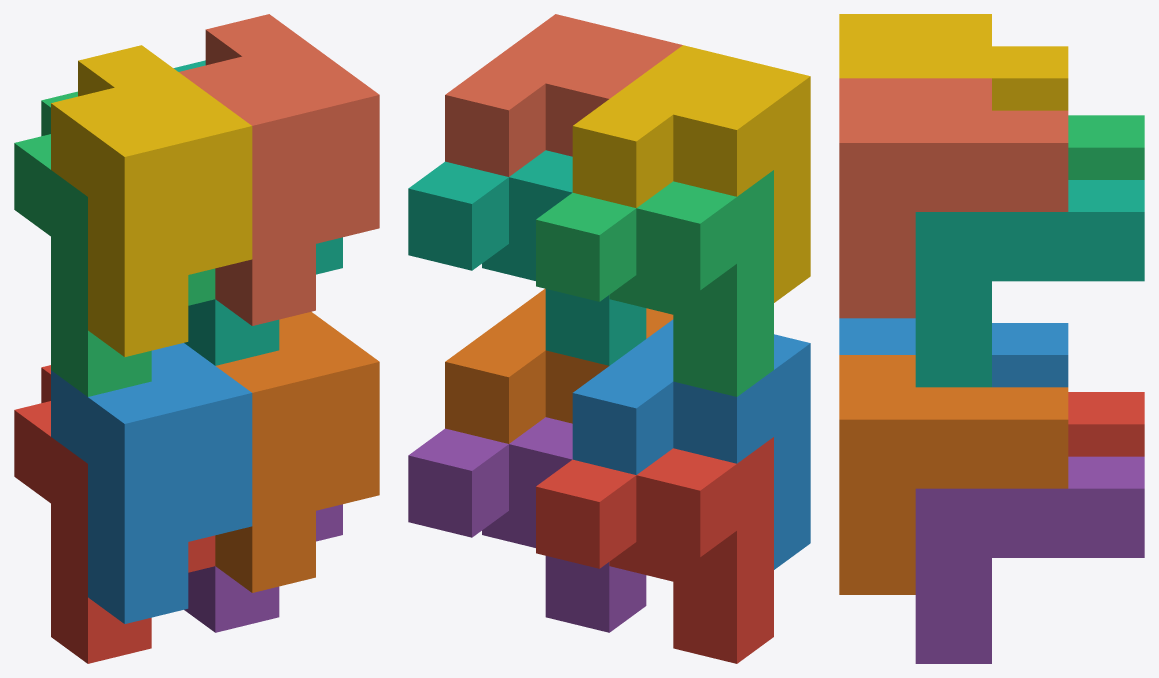
The model's file is tiling.obj.
The picture shows the model from 3 angles, left to right: view 1: azimuth 30°, elevation 25°; view 2: azimuth 150°, elevation 25°; view 3: azimuth 270°, elevation 25°; orthographic projection. The views are drawn at different scales.
Parts seen in each view (by area): view 1: copy_1_domain_4, copy_1_domain_2, copy_1_domain_8, copy_1_domain_6, copy_1_domain_3, copy_1_domain_1, copy_1_domain_7, copy_1_domain_5; view 2: copy_1_domain_3, copy_1_domain_1, copy_1_domain_4, copy_1_domain_2, copy_1_domain_8, copy_1_domain_7, copy_1_domain_5, copy_1_domain_6; view 3: copy_1_domain_8, copy_1_domain_6, copy_1_domain_5, copy_1_domain_7, copy_1_domain_4, copy_1_domain_2, copy_1_domain_1, copy_1_domain_3.
Boxes of the visible parts, x1,y1,x2,y2 form: copy_1_domain_4: [51, 45, 252, 356]; copy_1_domain_2: [51, 343, 252, 623]; copy_1_domain_8: [179, 14, 379, 325]; copy_1_domain_6: [215, 311, 379, 592]; copy_1_domain_3: [14, 91, 215, 396]; copy_1_domain_1: [14, 365, 215, 663]; copy_1_domain_7: [173, 60, 342, 365]; copy_1_domain_5: [184, 504, 342, 632]; copy_1_domain_3: [536, 170, 773, 396]; copy_1_domain_1: [536, 437, 773, 663]; copy_1_domain_4: [572, 45, 810, 302]; copy_1_domain_2: [572, 319, 810, 569]; copy_1_domain_8: [445, 14, 682, 176]; copy_1_domain_7: [408, 150, 646, 365]; copy_1_domain_5: [408, 417, 646, 632]; copy_1_domain_6: [445, 288, 673, 443]; copy_1_domain_8: [839, 78, 1068, 318]; copy_1_domain_6: [839, 355, 1068, 594]; copy_1_domain_5: [915, 456, 1144, 663]; copy_1_domain_7: [915, 180, 1144, 387]; copy_1_domain_4: [839, 14, 1068, 110]; copy_1_domain_2: [839, 318, 1068, 387]; copy_1_domain_1: [1068, 392, 1144, 456]; copy_1_domain_3: [1068, 115, 1144, 179].
Bounding box in the file's own units: 4 × 8 × 4.
